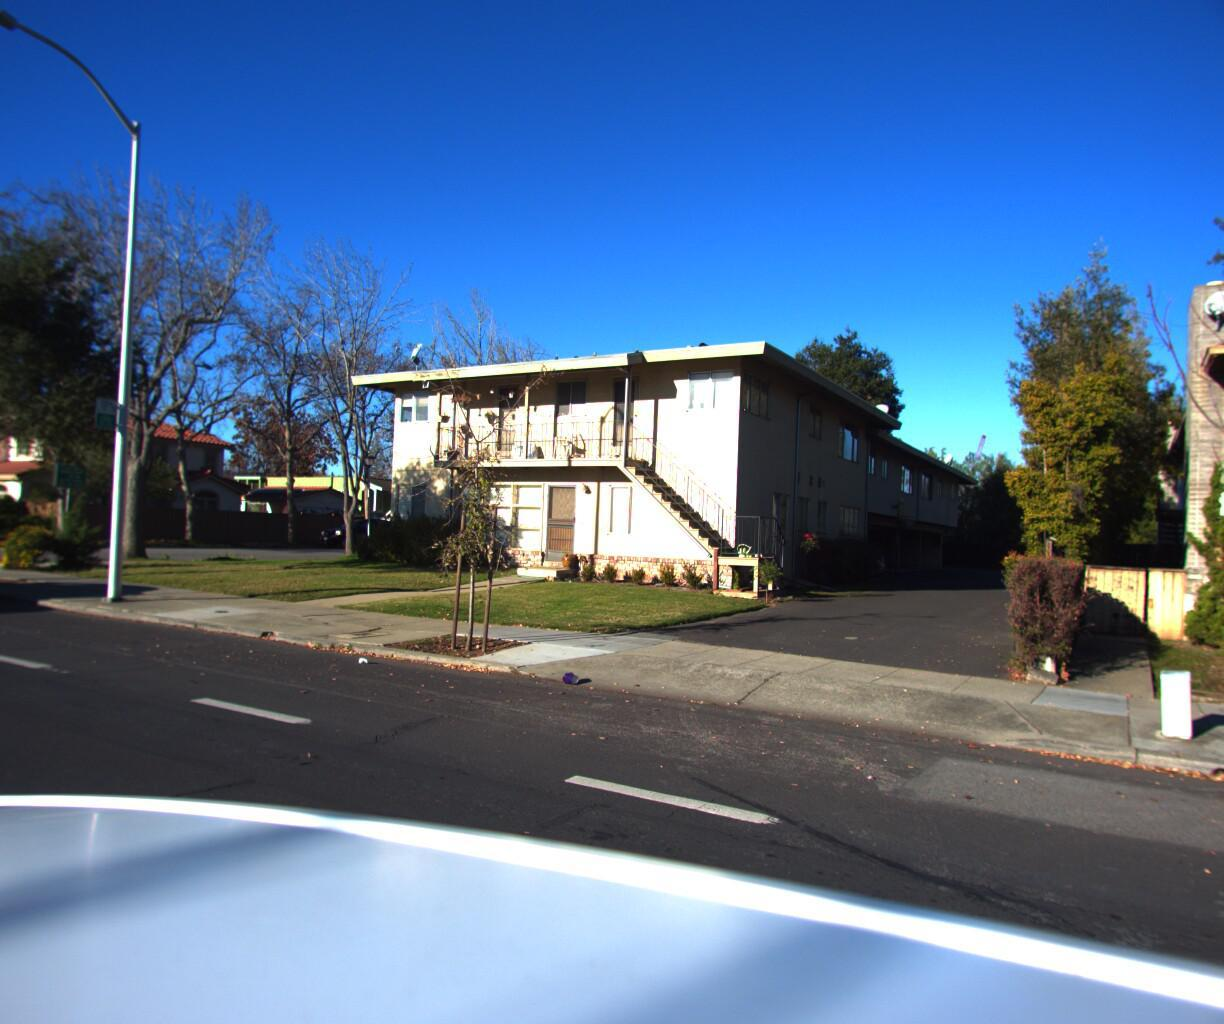car: (310, 521, 397, 557)
